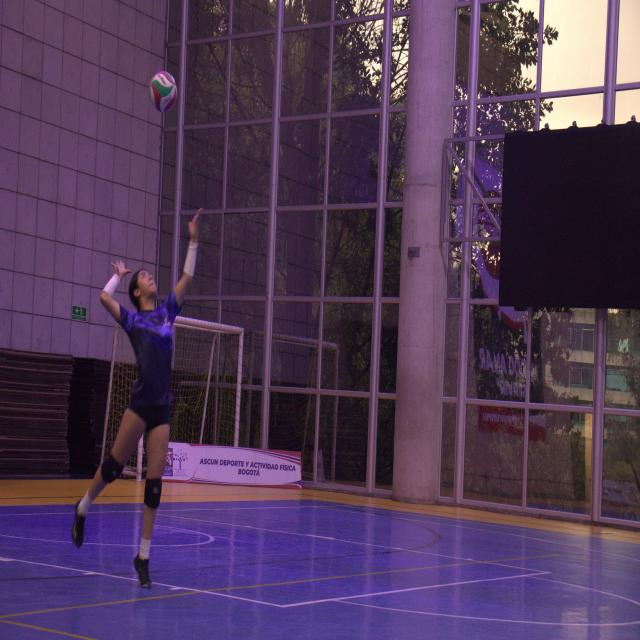volleyball: (150, 70, 177, 116)
